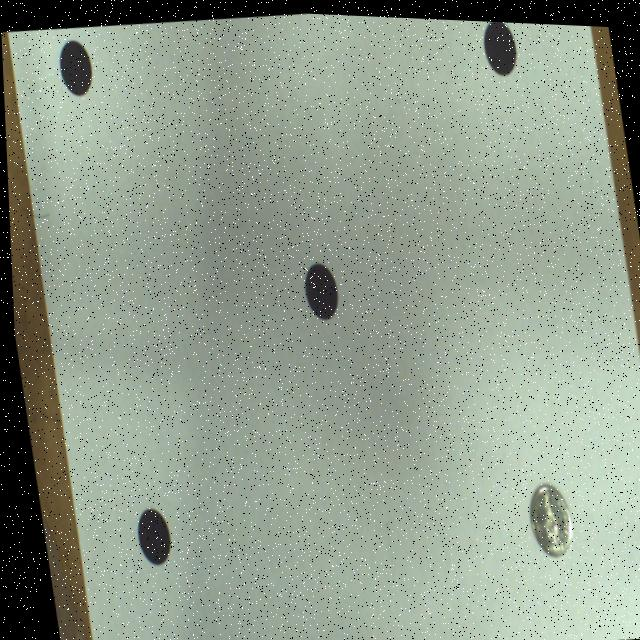space: (132, 506, 165, 563), (302, 259, 335, 316), (59, 39, 91, 96), (483, 17, 516, 71)
tail1bath: (525, 478, 568, 551)
